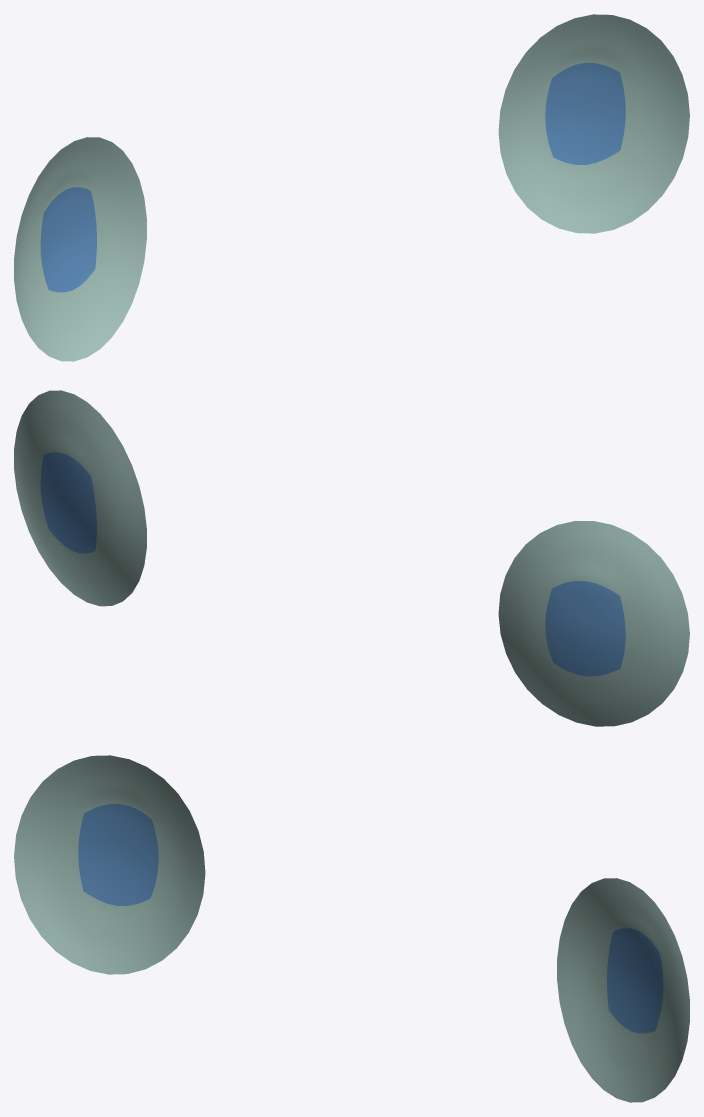
Rendered from eye.fbx.
3 renders of one model, top to bottom at view 1: azimuth 30°, elevation 25°; view 2: azimuth 150°, elevation 25°; view 3: azimuth 330°, elevation 25°, orthographic.
Parts seen in each view (by area): view 1: _eye; view 2: _eye; view 3: _eye.
Boxes of the visible parts, box(x1,y1,x2,y2) form: _eye: box(14, 14, 689, 361); _eye: box(14, 390, 689, 726); _eye: box(14, 755, 689, 1102).
Size of the model in its own units: 24.15 by 7.25 by 2.
